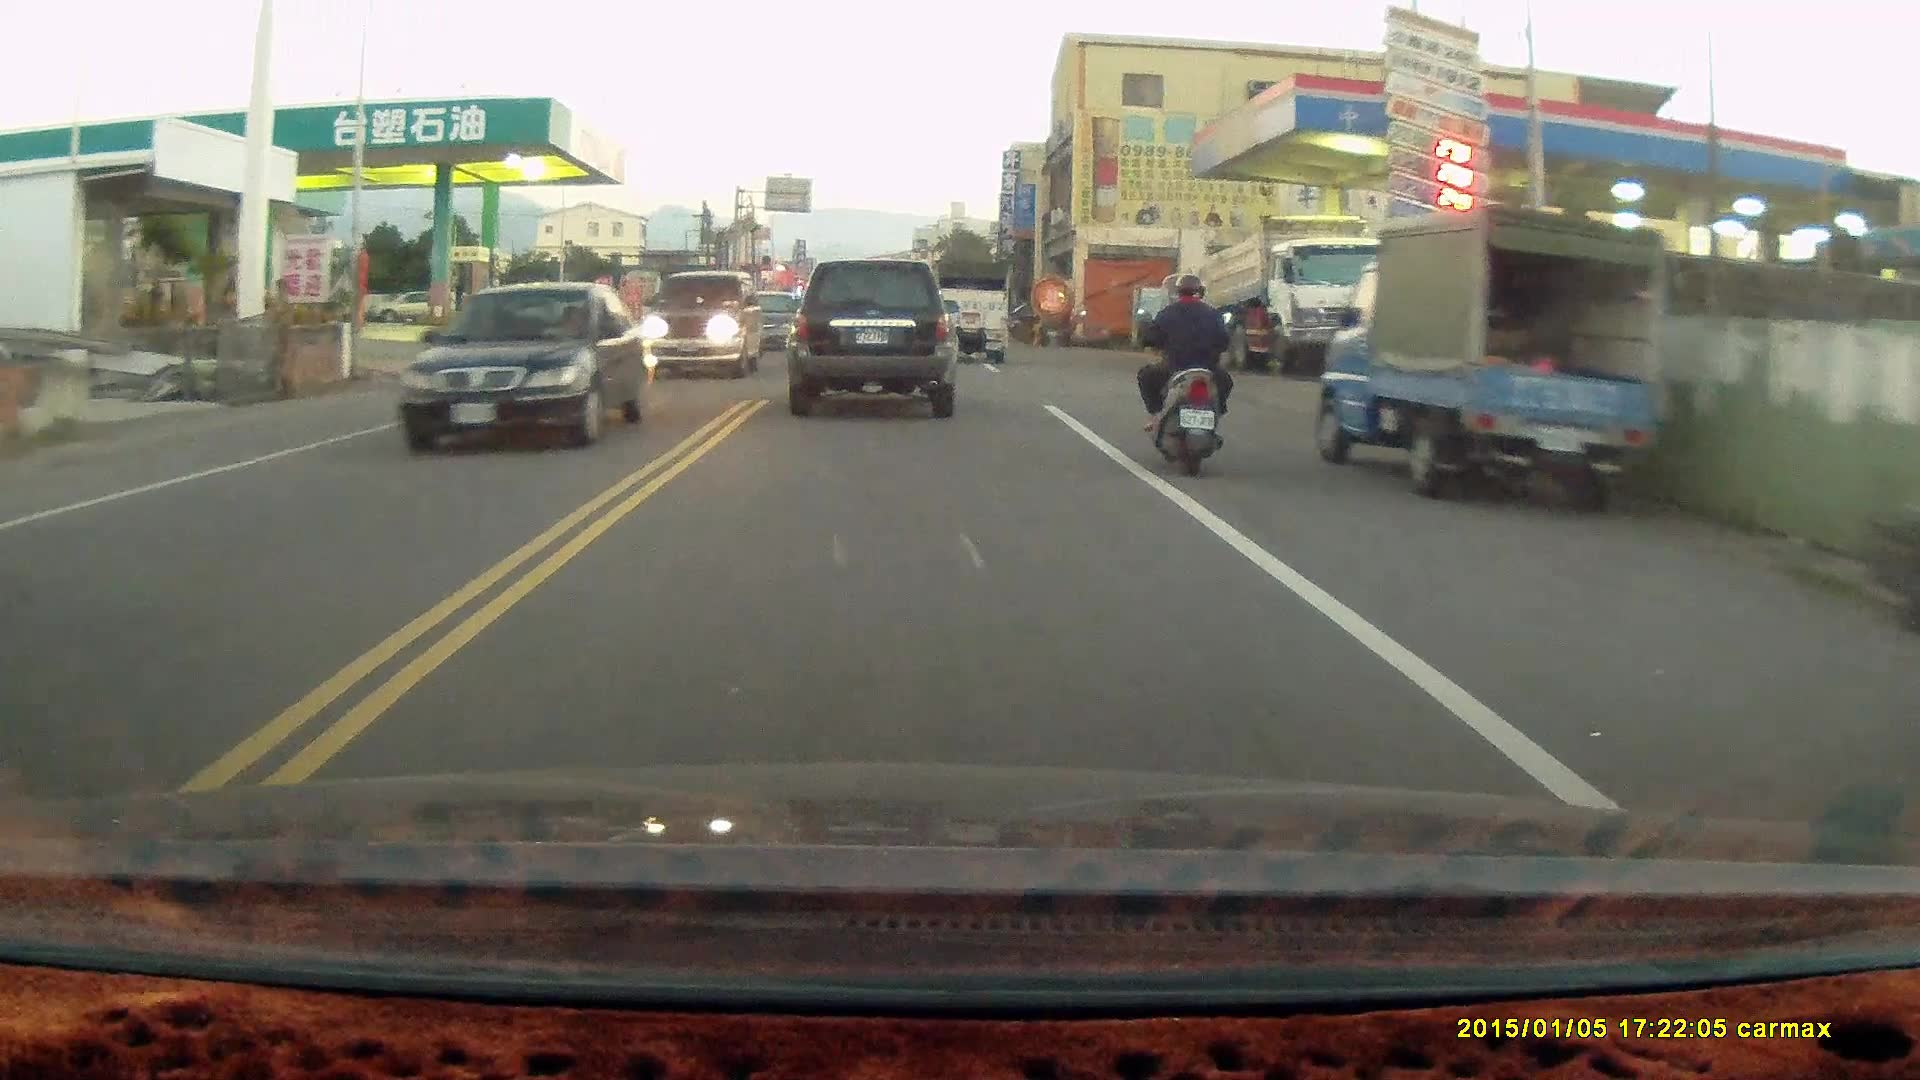rider: (1135, 275, 1236, 480)
vehicle: (1318, 211, 1676, 503), (401, 286, 658, 455), (788, 264, 957, 420), (645, 269, 769, 382), (918, 255, 1013, 366)
